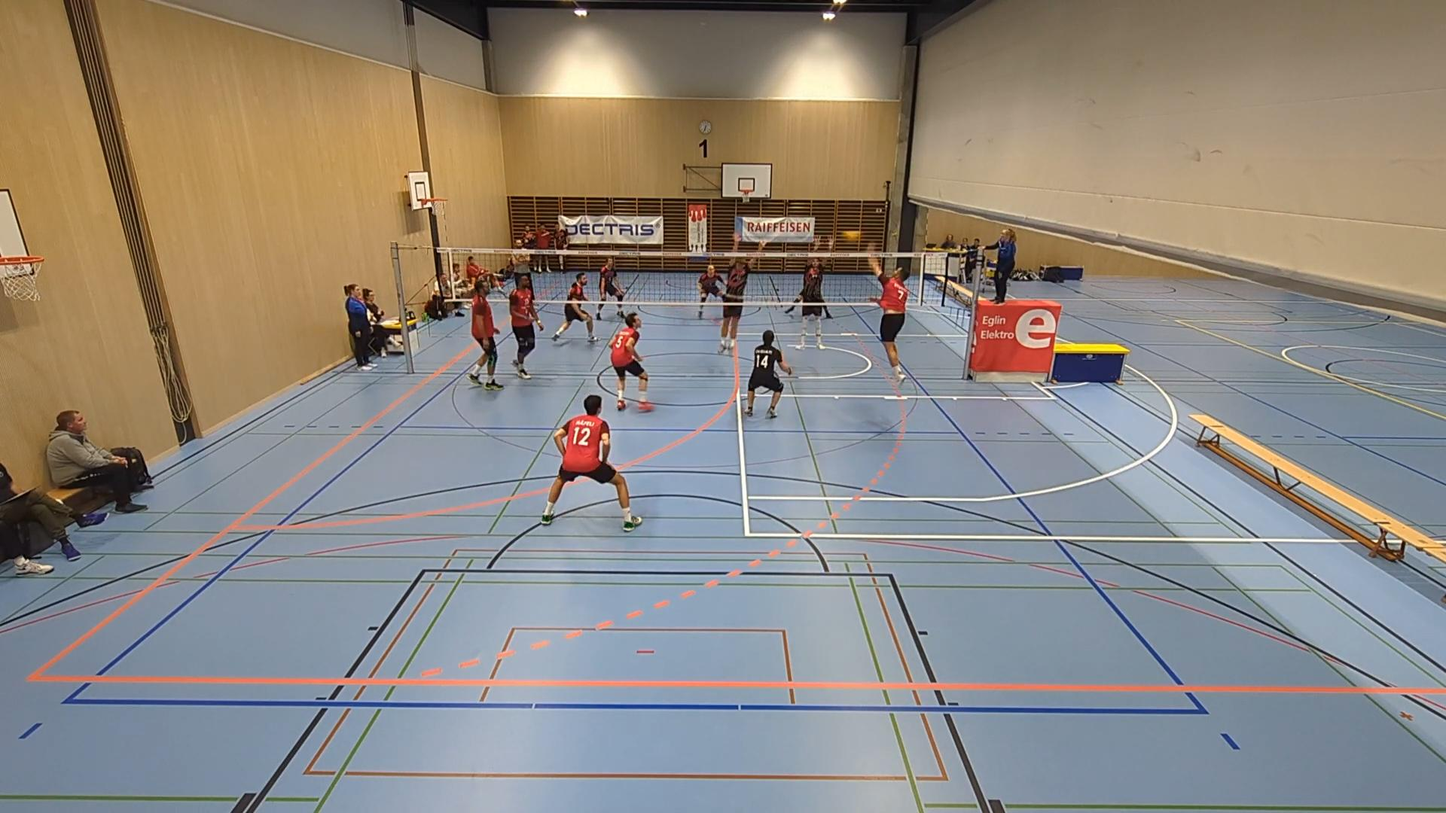Attack: (863, 248, 917, 376)
Block: (709, 232, 768, 352), (798, 235, 835, 353)
Player: (541, 394, 642, 531), (610, 313, 652, 412), (745, 330, 792, 418), (468, 275, 503, 390), (509, 273, 545, 379), (551, 272, 597, 340), (596, 257, 624, 318), (697, 263, 722, 318), (804, 257, 831, 301)
ball: (843, 228, 859, 242)
